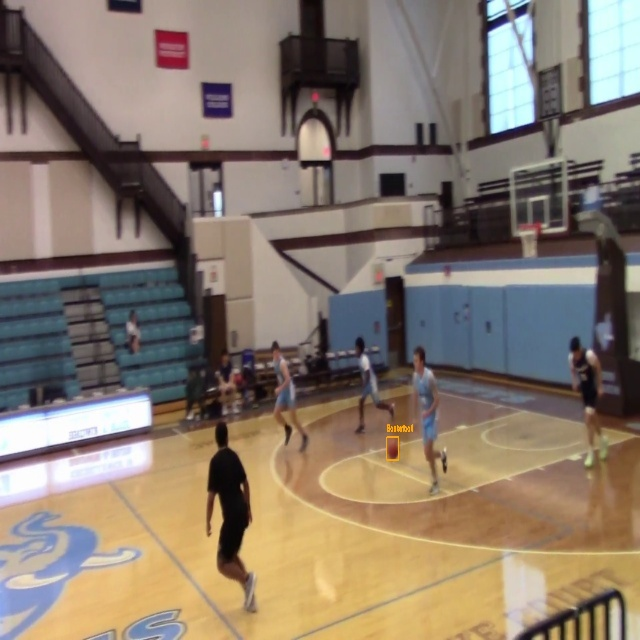Basketball: (387, 437, 399, 460)
